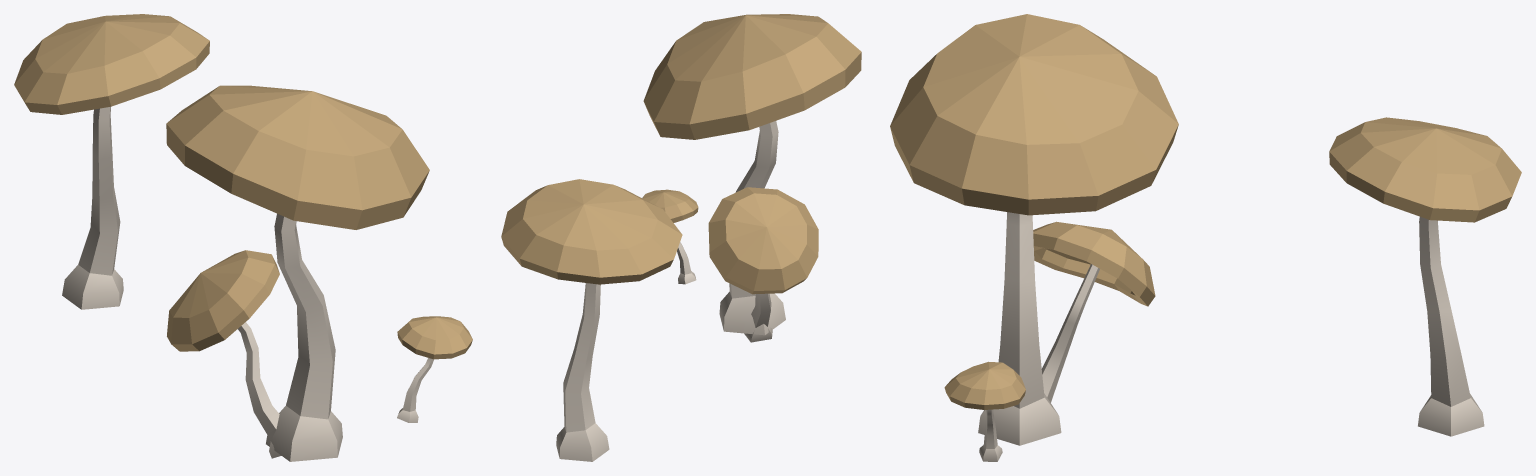
The model's file is geo_mushrooms.fbx.
3 views of the same model, side by side, from view 1: azimuth 30°, elevation 25°; view 2: azimuth 150°, elevation 25°; view 3: azimuth 270°, elevation 25° (orthographic). The views are drawn at different scales.
Parts seen in each view (by area): view 1: geo_mushroom_bunch, geo_mushroom; view 2: geo_mushroom_bunch, geo_mushroom; view 3: geo_mushroom_bunch, geo_mushroom.
Boxes of the visible parts, x1,y1,x2,y2 form: geo_mushroom_bunch: (166,85,472,461); geo_mushroom: (14,14,209,309); geo_mushroom_bunch: (642,14,861,342); geo_mushroom: (501,179,682,461); geo_mushroom_bunch: (890,14,1178,461); geo_mushroom: (1329,117,1521,436).
Bounding box in the file's own units: 1.2 × 1.6 × 2.38.
